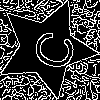C: (21, 23, 79, 75)
